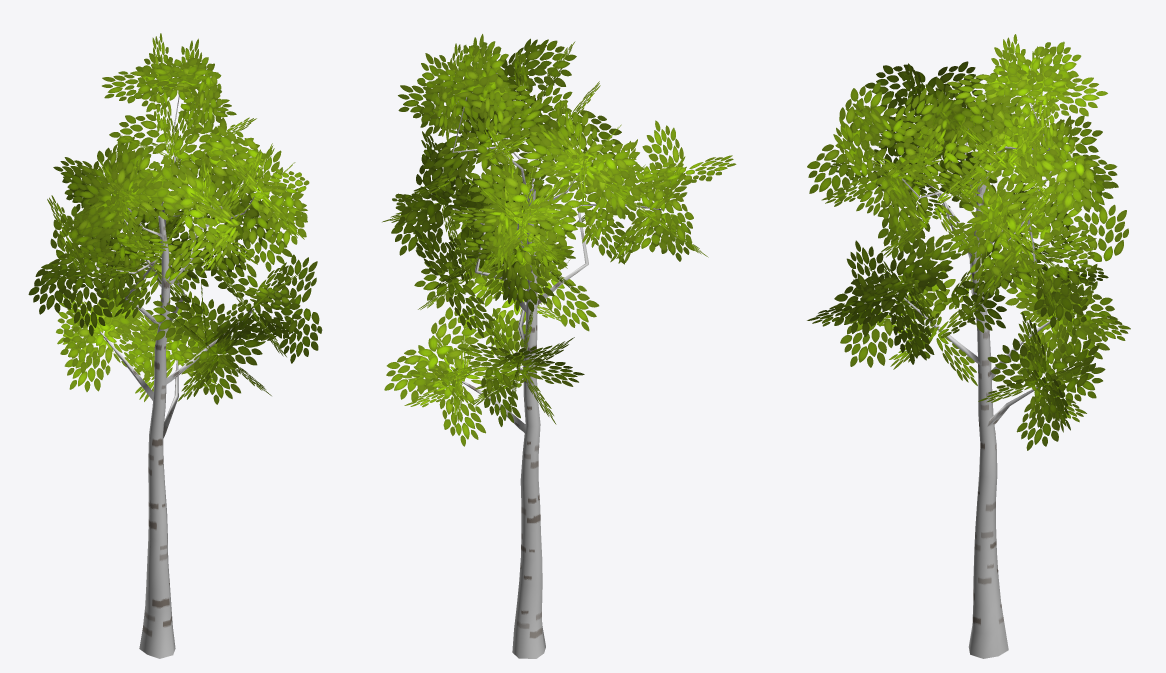
File: Tree02A.glb
The picture shows the model from 3 angles, left to right: view 1: azimuth 30°, elevation 25°; view 2: azimuth 150°, elevation 25°; view 3: azimuth 270°, elevation 25°; orthographic projection. The views are drawn at different scales.
Visible parts, largest first — view 1: stylizedTree02; view 2: stylizedTree02; view 3: stylizedTree02.
Boxes of the visible parts, x1,y1,x2,y2 form: stylizedTree02: (28, 33, 322, 658); stylizedTree02: (382, 34, 736, 658); stylizedTree02: (807, 34, 1130, 658).
Size of the model in its own units: 8.92 by 16.91 by 8.77.
Materials: 2 (2 with a texture image).
